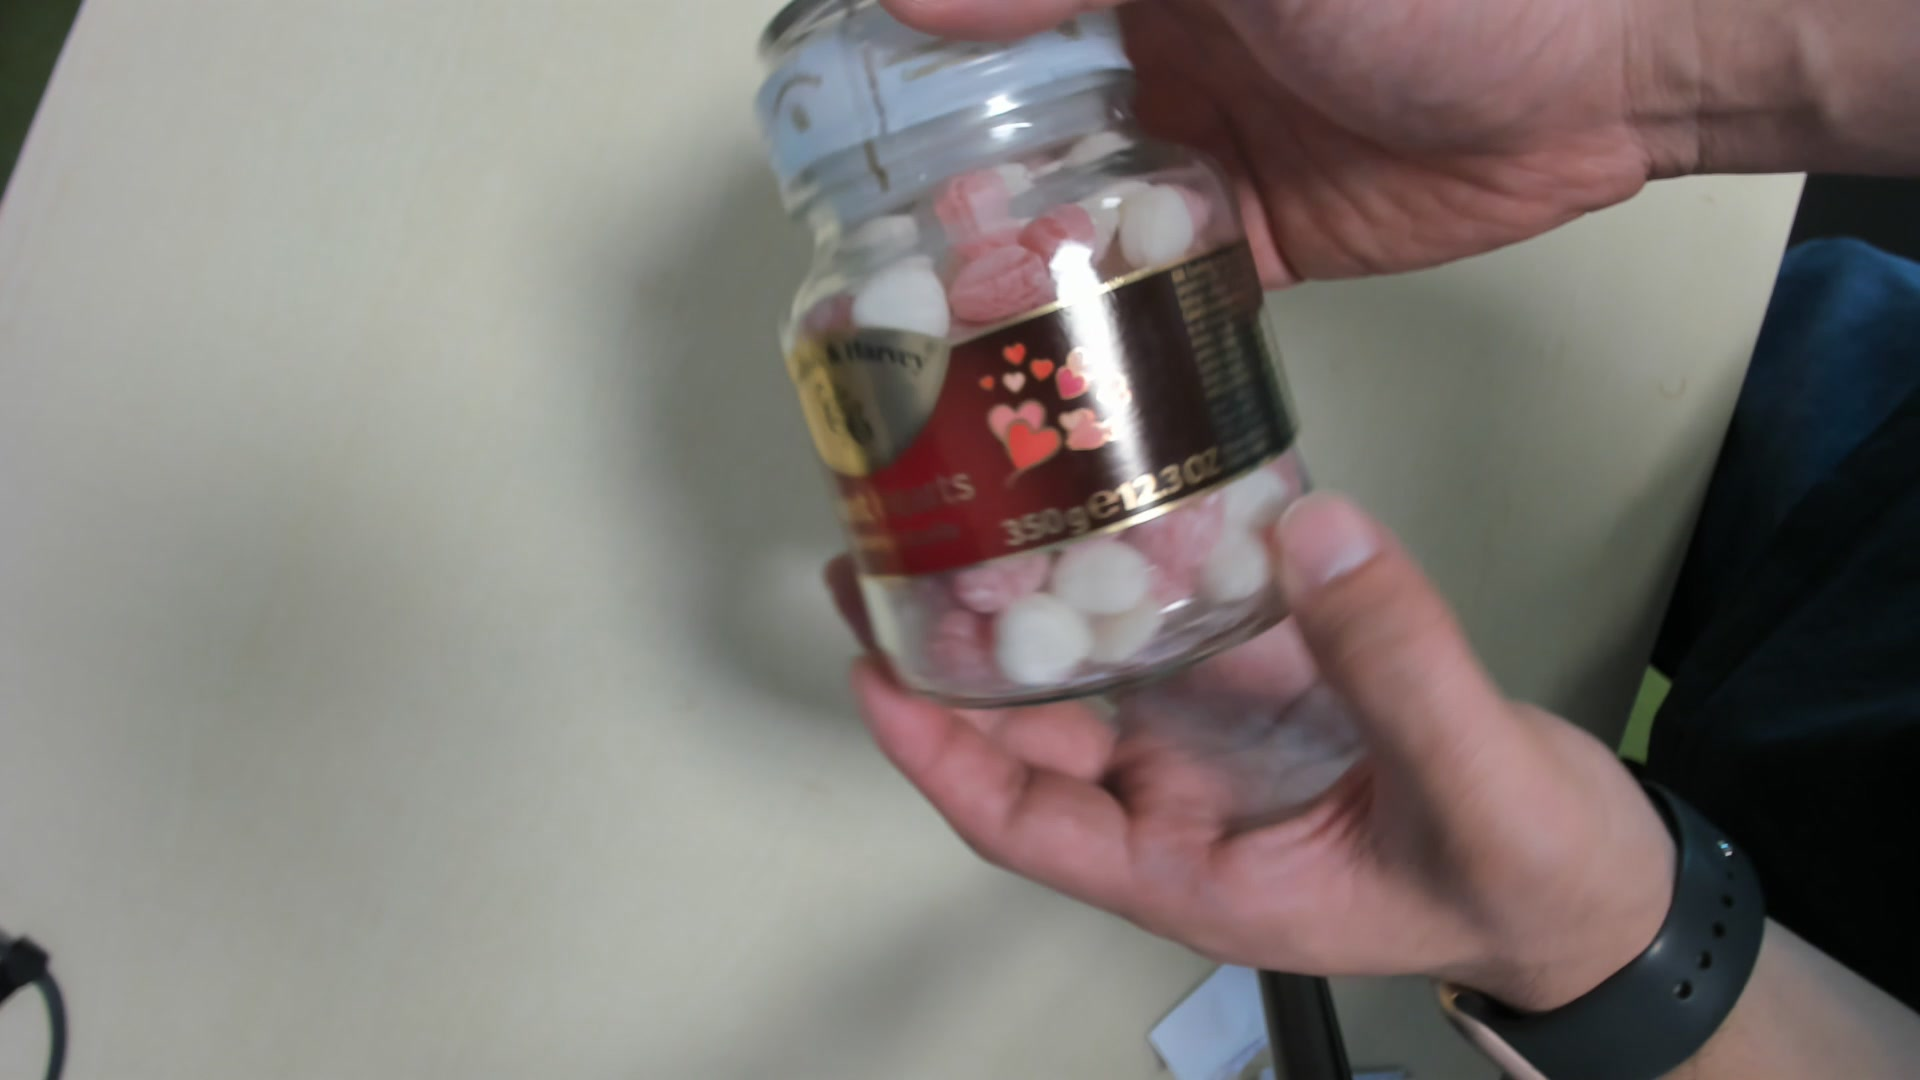SweetsChocolatesOthers_300-399g_NonHalal_Nonhealthy: (753, 12, 1335, 707)
